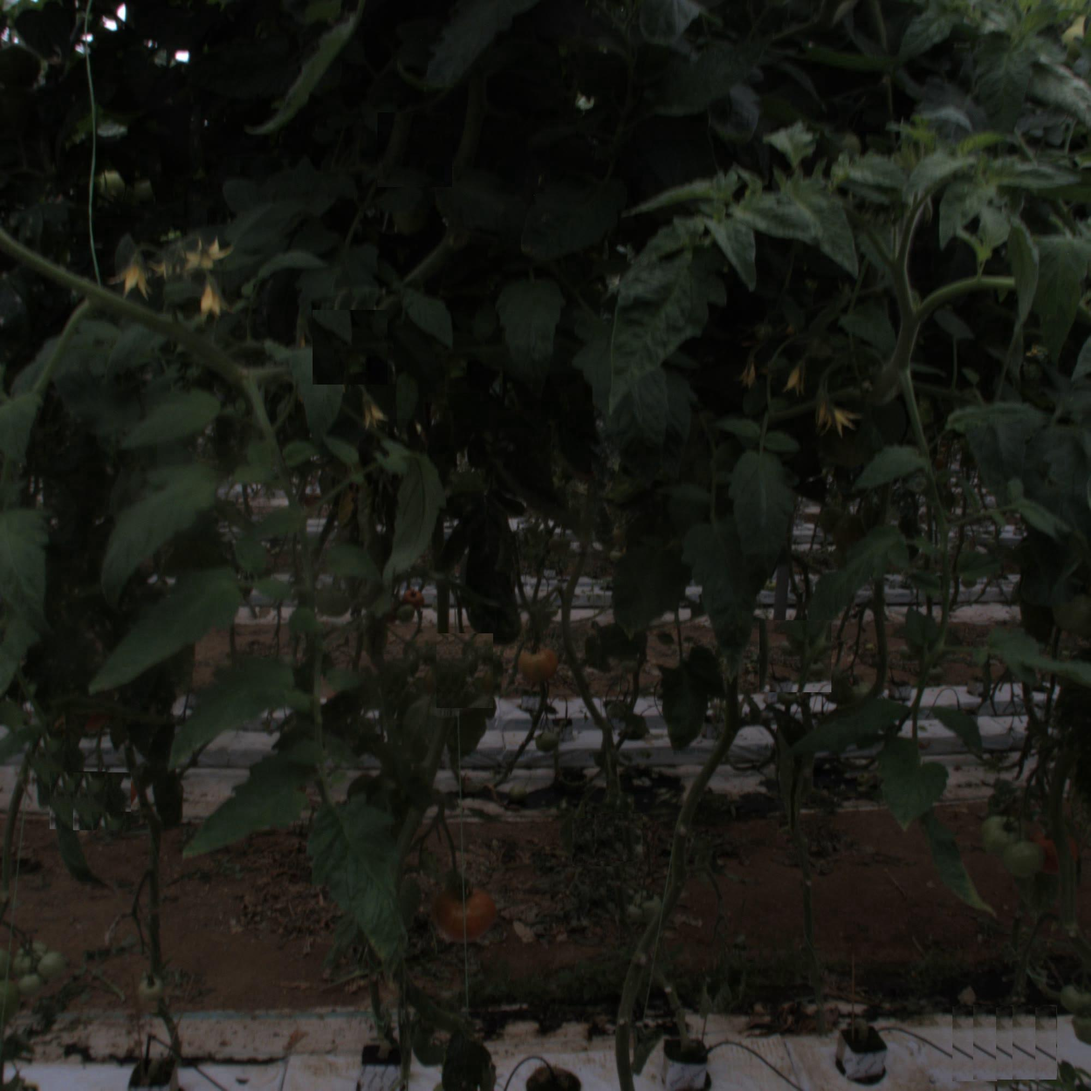fully-ripe: (432, 876, 497, 942)
semi-ripe: (514, 644, 556, 685)
unripe: (976, 814, 1021, 859), (1001, 835, 1046, 880)
